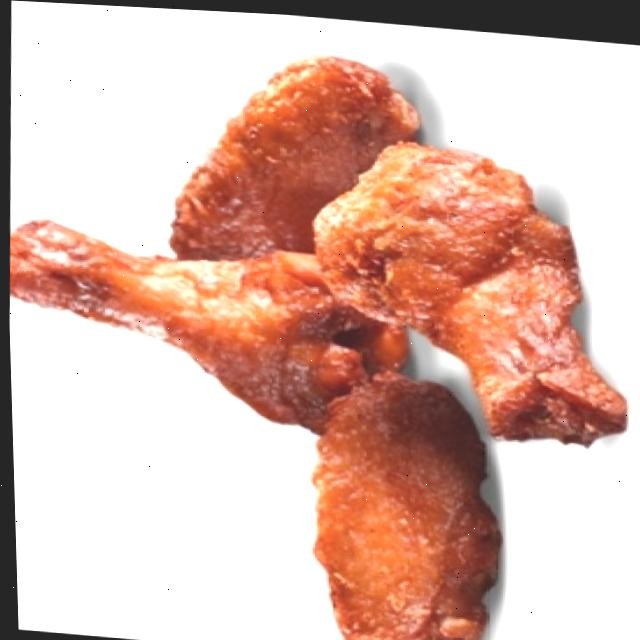鸡肉料理 含炸鸡: (1, 37, 640, 640)
